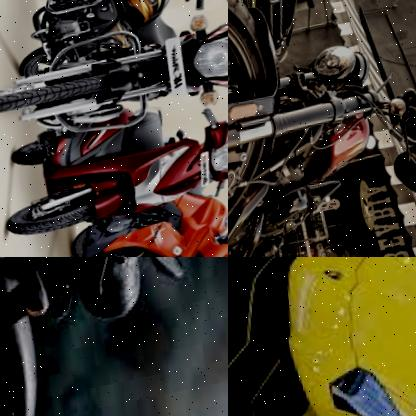bike: (228, 0, 416, 257), (0, 88, 228, 247), (0, 257, 228, 416), (33, 189, 228, 257)
car: (228, 257, 416, 416)
